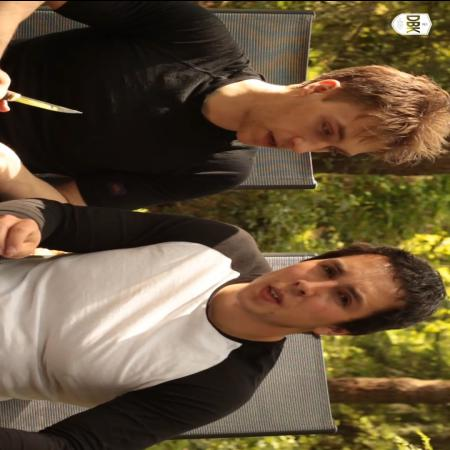long weapon: (1, 73, 94, 122)
